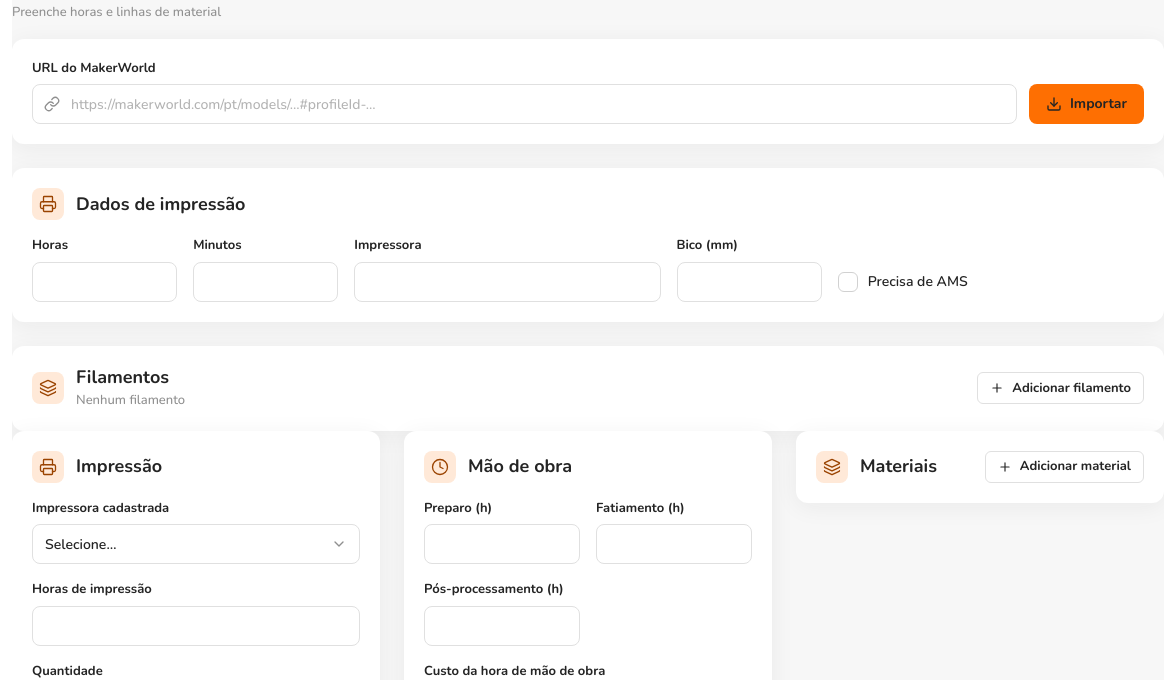
Pricing page › imports filaments from a MakerWorld URL and adds a material selector per filament
Check: the heading "Impressão" is shown, box [76,454,162,478]
Type "https://makerworld.com/models/3007827" into the field labelled "URL do MakerWorld".
click(524, 104); type("https://makerworld.com/models/3007827")  # box [32,84,1017,124]
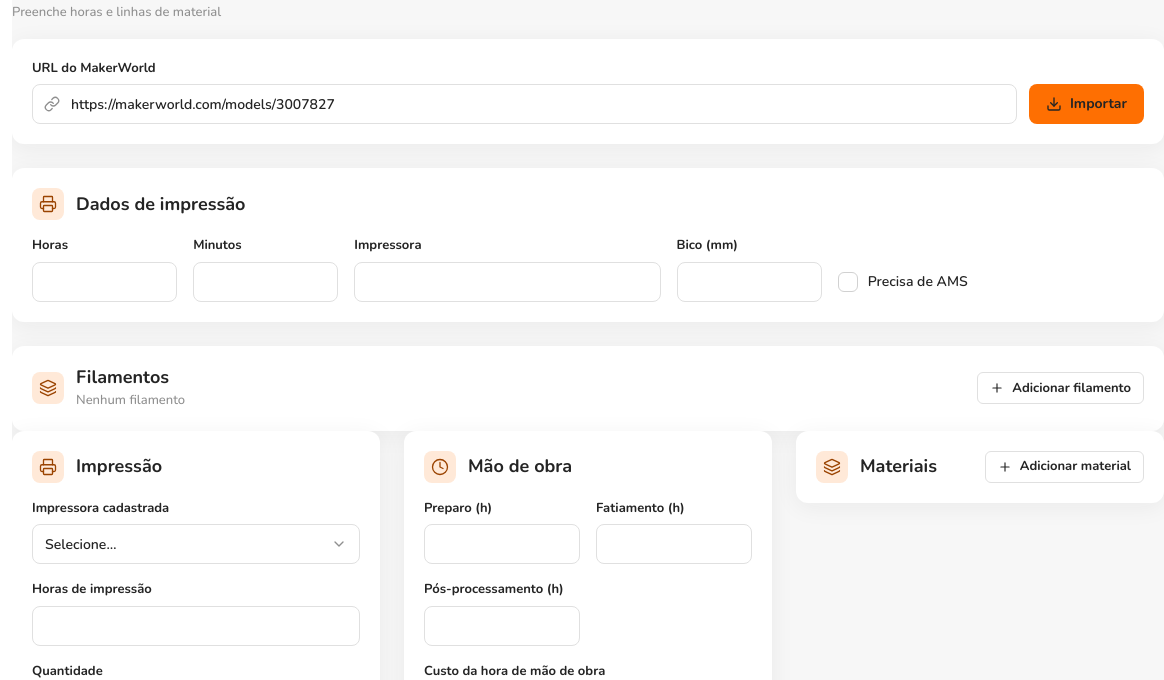
Click the button "Importar".
click(1086, 104)  # box [1029,84,1144,124]
(page scrolled)
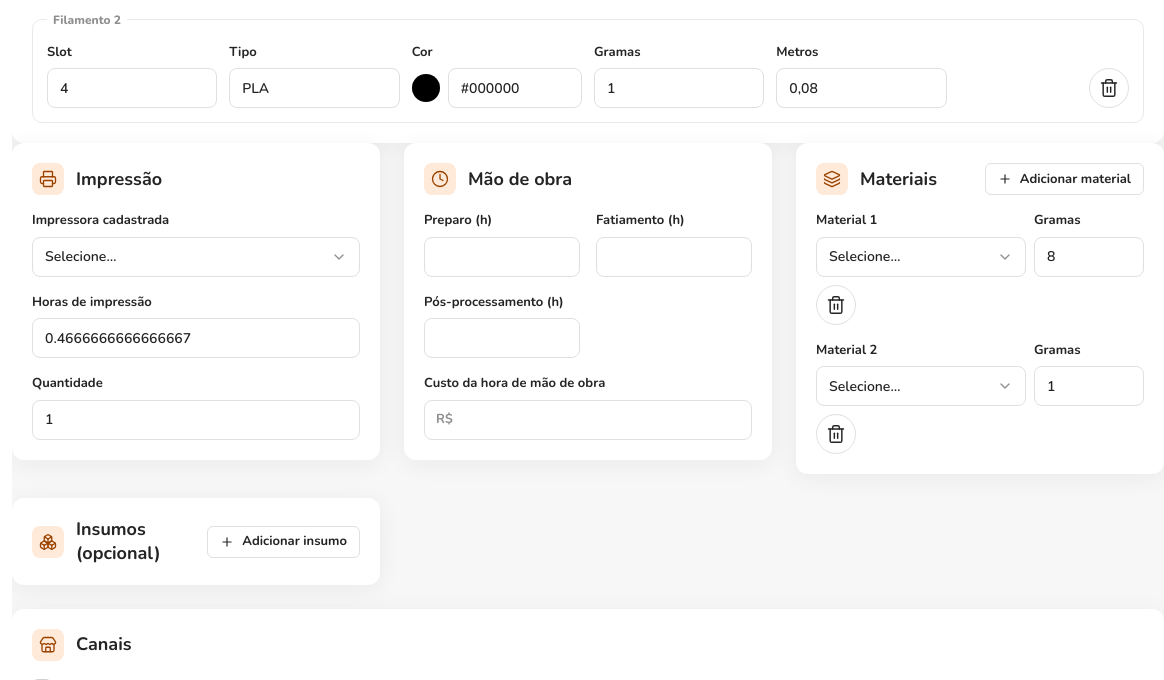
Check: the number of dropdowns labelled "Material 1" is 2, box [816,237,1026,277]; [816,366,1026,406]
